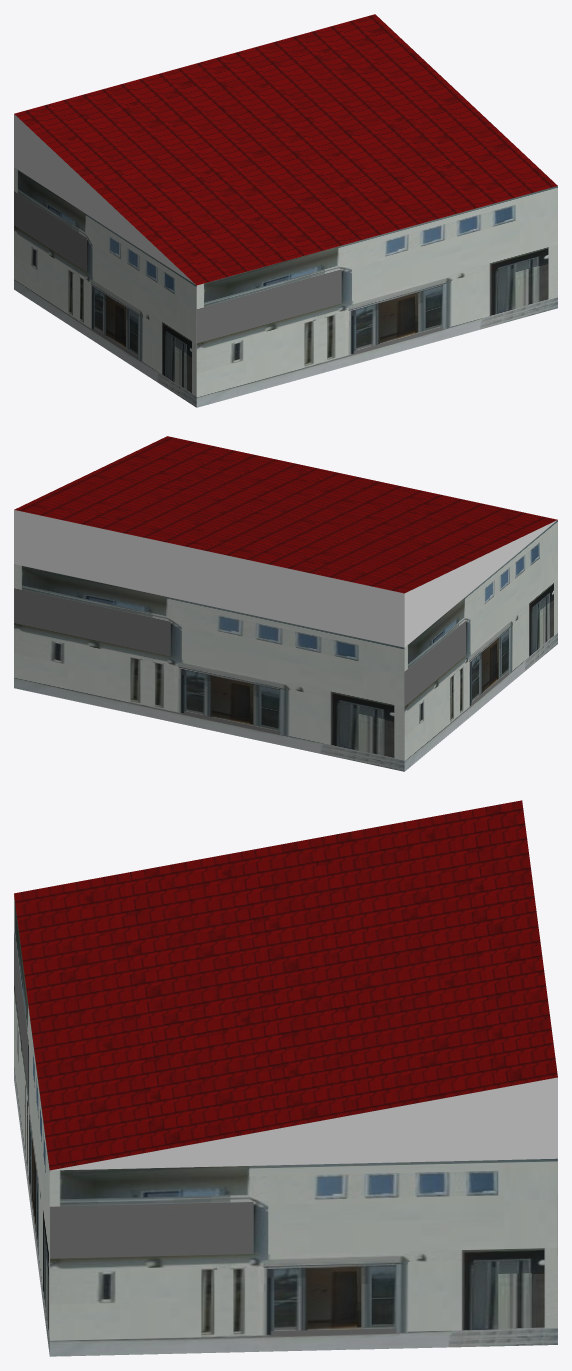
3 renders of one model, top to bottom at view 1: azimuth 30°, elevation 25°; view 2: azimuth 150°, elevation 25°; view 3: azimuth 270°, elevation 25°, orthographic. The views are drawn at different scales.
Parts seen in each view (by area): view 1: CityEngineMaterial_17_m, CityEngineMaterial_11_m, CityEngineMaterial_3_m; view 2: CityEngineMaterial_11_m, CityEngineMaterial_17_m, CityEngineMaterial_3_m; view 3: CityEngineMaterial_17_m, CityEngineMaterial_11_m, CityEngineMaterial_3_m.
Part boxes in pixels (x1,y1,x2,y2): CityEngineMaterial_17_m: (14, 14, 557, 285); CityEngineMaterial_11_m: (14, 167, 557, 407); CityEngineMaterial_3_m: (14, 114, 195, 284); CityEngineMaterial_11_m: (14, 520, 557, 771); CityEngineMaterial_17_m: (14, 436, 557, 593); CityEngineMaterial_3_m: (14, 510, 556, 647); CityEngineMaterial_17_m: (14, 800, 557, 1170); CityEngineMaterial_11_m: (14, 895, 557, 1356); CityEngineMaterial_3_m: (52, 1077, 557, 1170).
Bounding box in the file's own units: 19.66 × 8.49 × 15.65.
